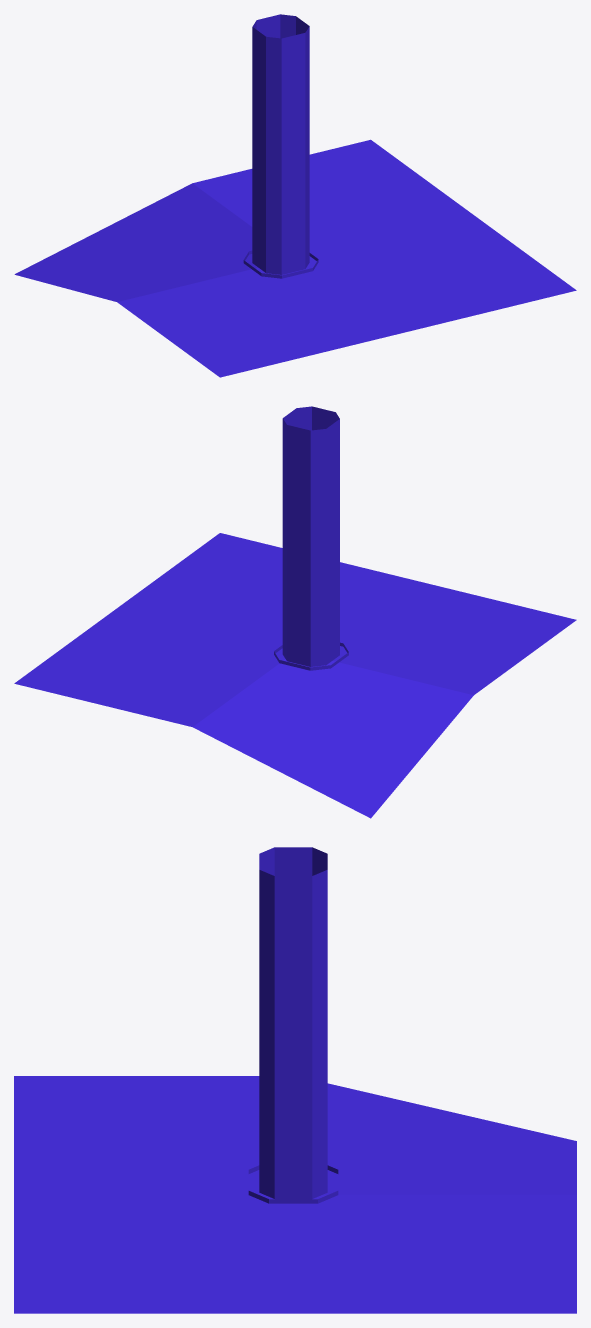
The model's file is Roof Bolt.fbx.
3 views of the same model, one above another, from view 1: azimuth 30°, elevation 25°; view 2: azimuth 150°, elevation 25°; view 3: azimuth 270°, elevation 25° (orthographic). The views are drawn at different scales.
Parts seen in each view (by area): view 1: Cube.037; view 2: Cube.037; view 3: Cube.037.
Boxes of the visible parts, x1,y1,x2,y2 form: Cube.037: (14,14,576,377); Cube.037: (14,406,576,818); Cube.037: (14,847,576,1313).
Size of the model in its own units: 13.88 by 11.14 by 13.88.
